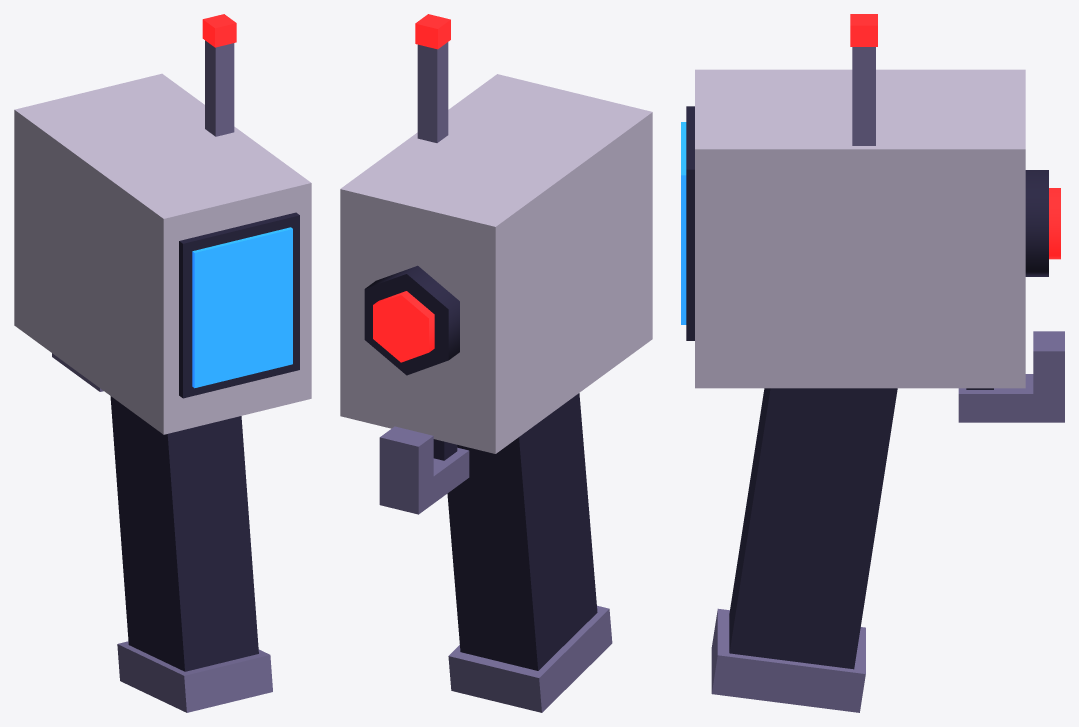
Rendered from scanner.lod1.glb.
3 renders of one model, left to right at view 1: azimuth 30°, elevation 25°; view 2: azimuth 150°, elevation 25°; view 3: azimuth 270°, elevation 25°, orthographic. The views are drawn at different scales.
Visible parts, largest first — view 1: item.scanner.body; view 2: item.scanner.body; view 3: item.scanner.body.
Part boxes in pixels (x1,y1,x2,y2): item.scanner.body: (14,14,311,712); item.scanner.body: (340,14,652,712); item.scanner.body: (681,14,1064,712).
Bounding box in the file's own units: 0.15 × 0.6146 × 0.3047.
